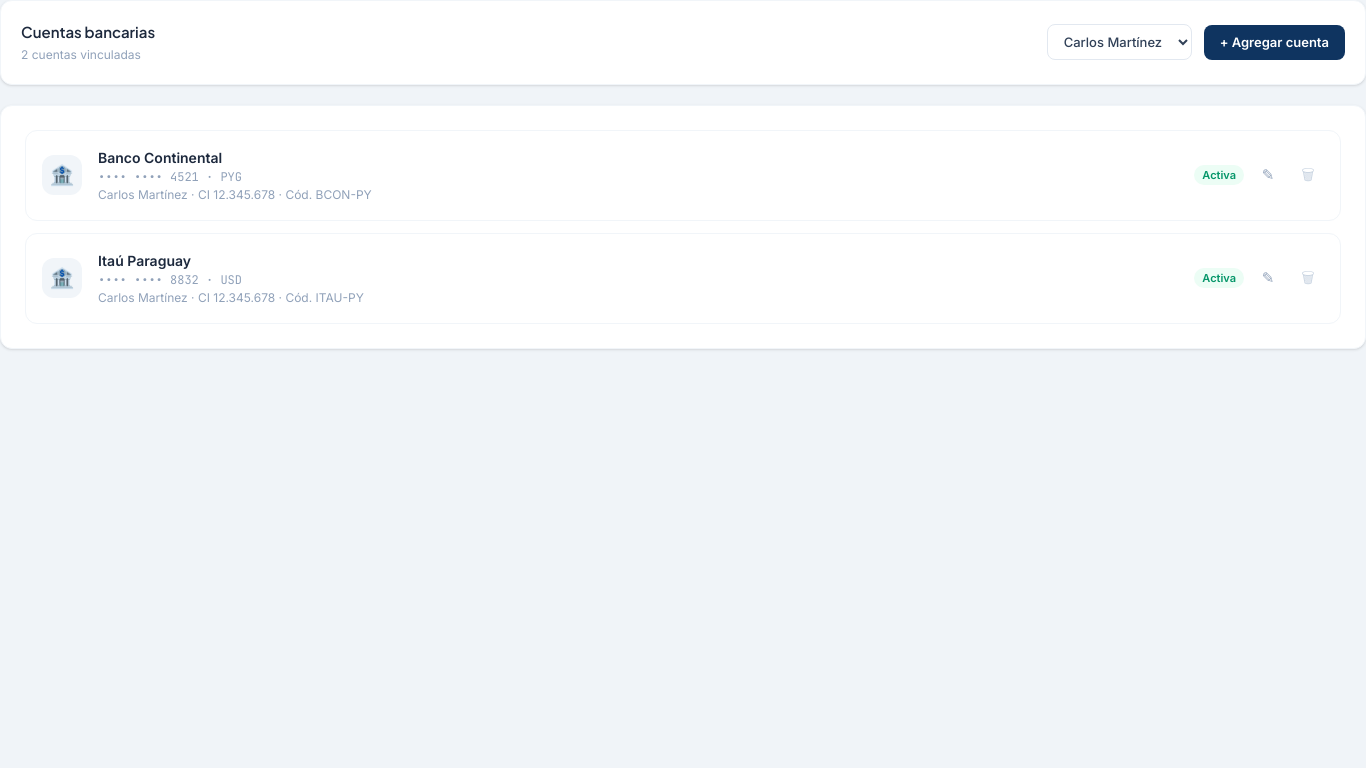
it: Banks (CRUD de medios de pago del cliente) › muestra estado vacío al eliminar todas las cuentas
The width and height of the screenshot is (1366, 768).
Expected: the text "Banco Continental" is shown, [98, 148, 222, 166]
Click the button "🗑" in the row of "BCON-PY" at (1308, 175), box [1292, 159, 1324, 191]
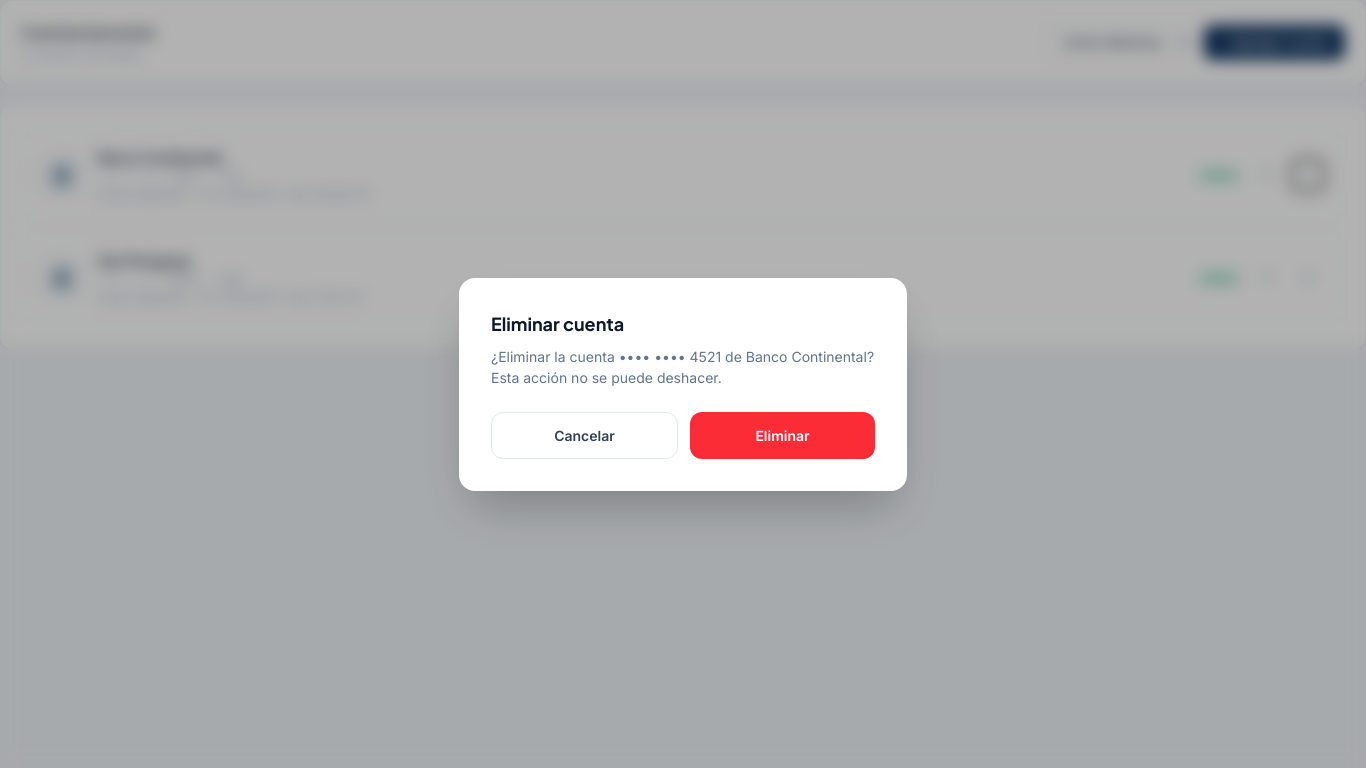
Click the button "Eliminar" at (782, 435), box [690, 412, 875, 458]
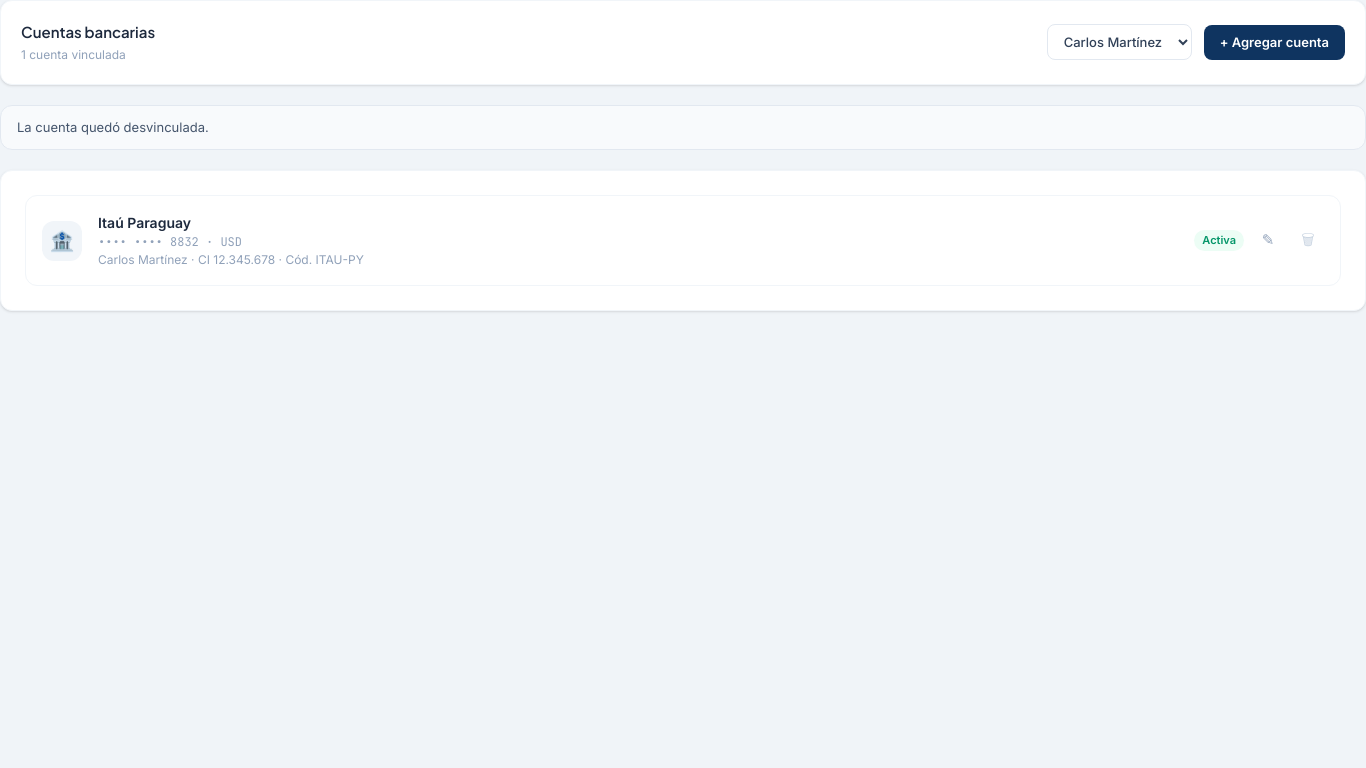
Click the button named "Eliminar cuenta Itaú Paraguay" at (1308, 240), box [1292, 224, 1324, 256]
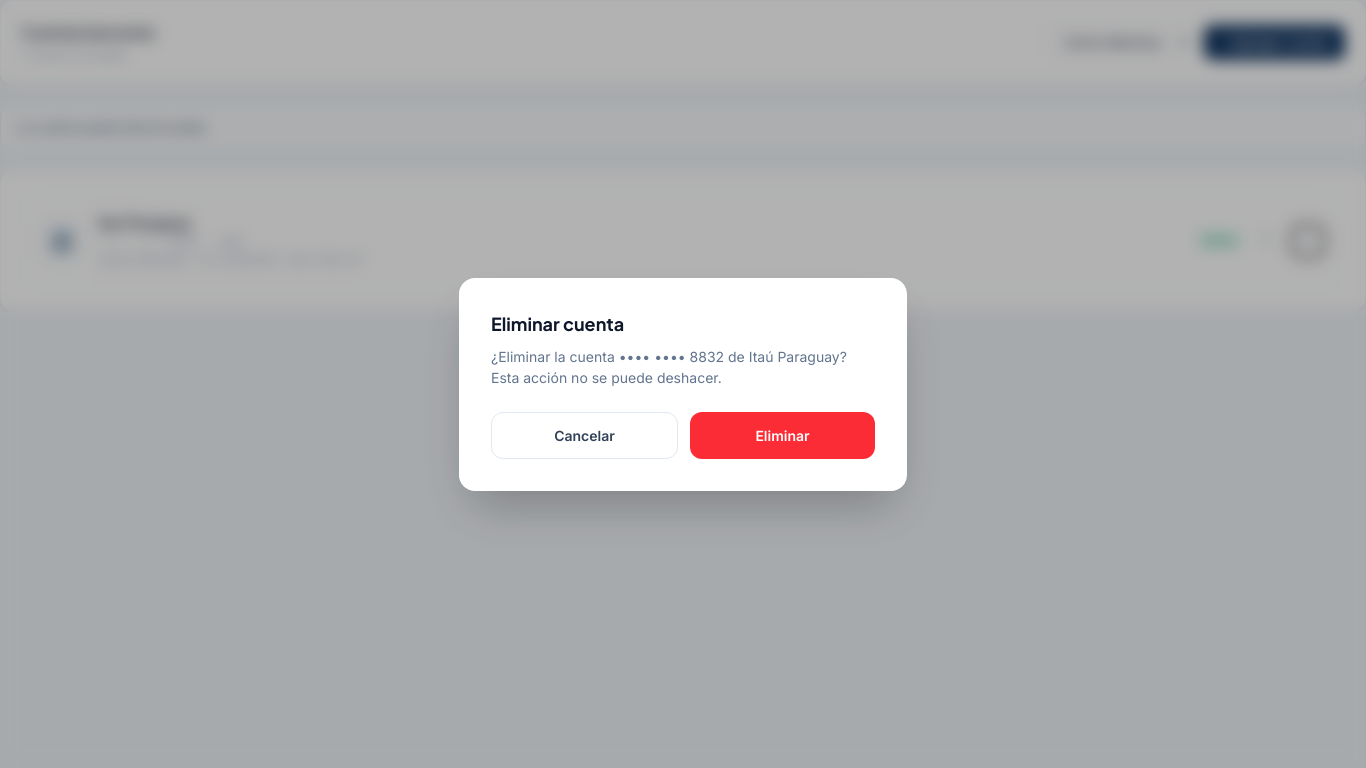
Click the button "Eliminar" at (782, 435), box [690, 412, 875, 458]
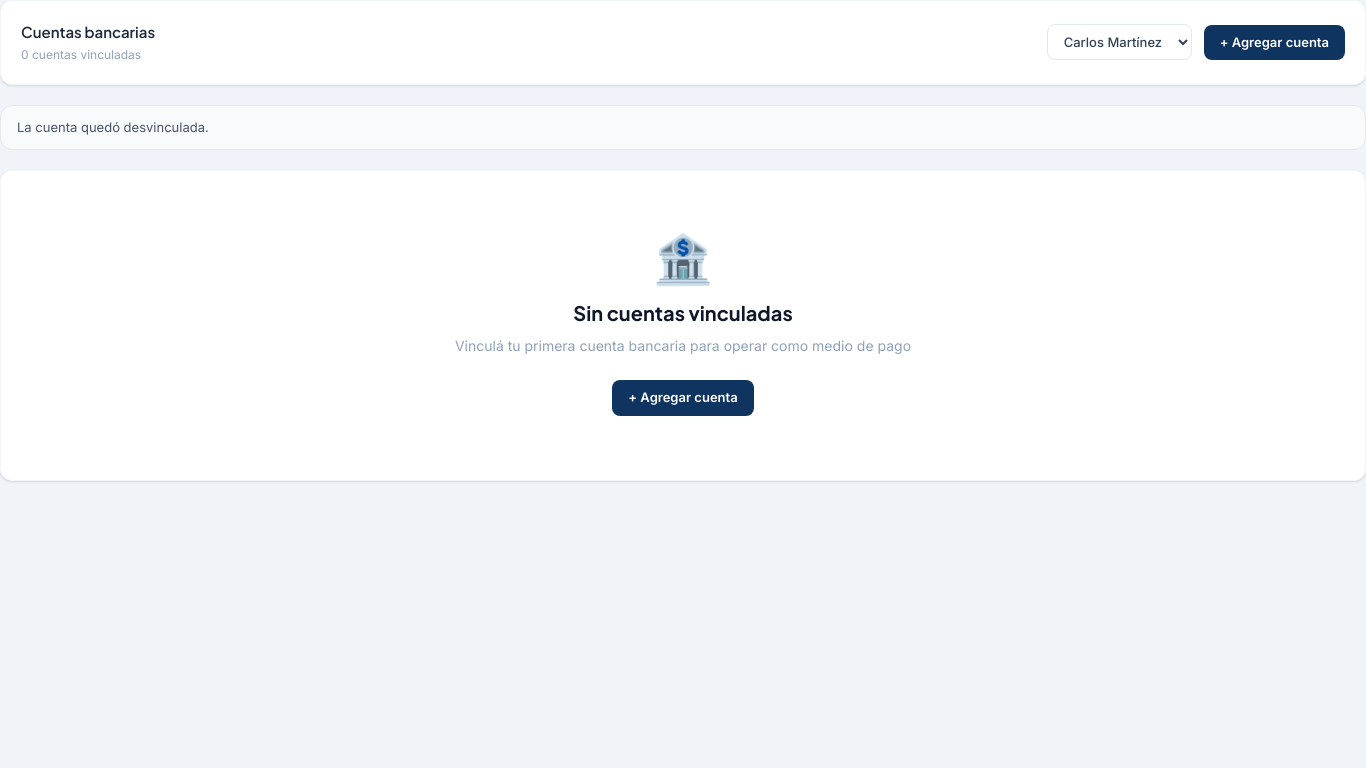
Now the heading "Sin cuentas vinculadas" is shown, box [573, 300, 793, 325]
